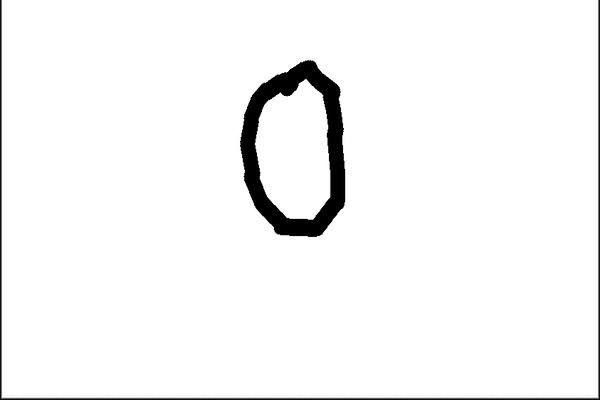O: (219, 54, 359, 253)
